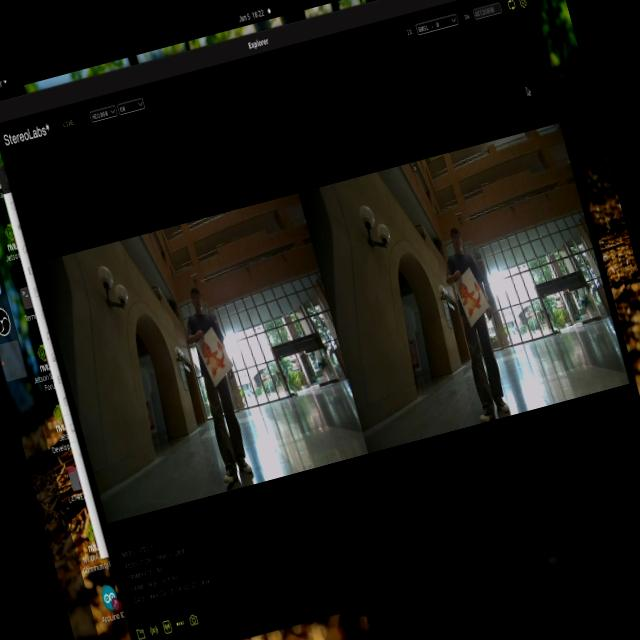red: (197, 326, 246, 396), (452, 270, 489, 324)
